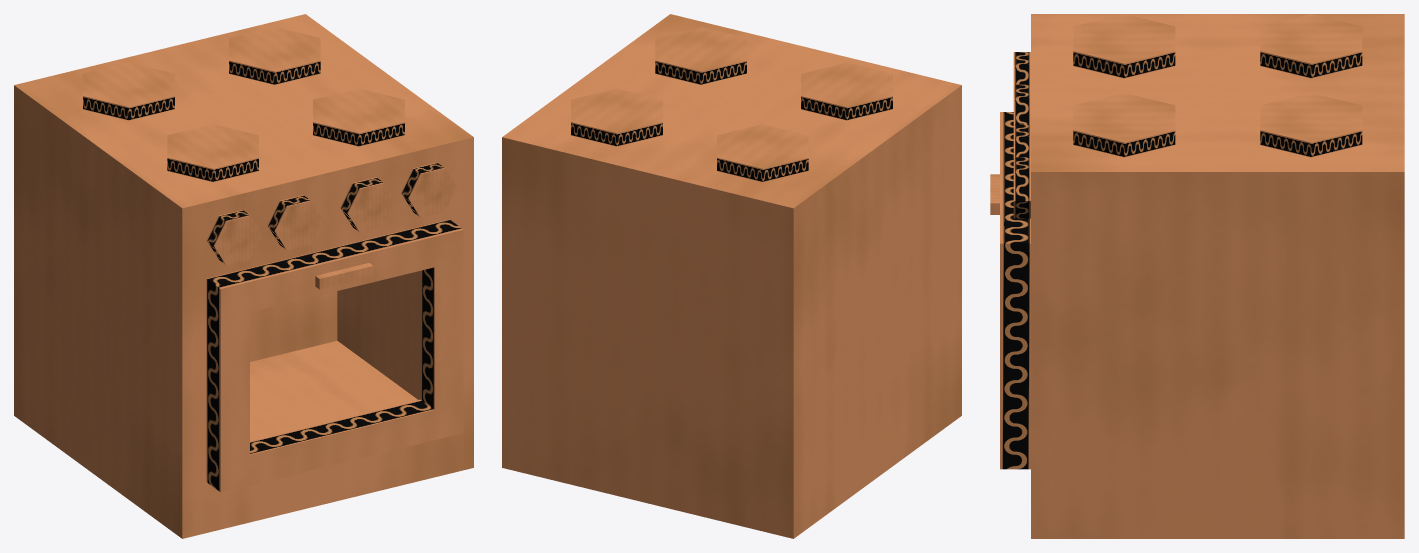
File: M_CardboardKitchen_Oven.fbx
The picture shows the model from 3 angles, left to right: view 1: azimuth 30°, elevation 25°; view 2: azimuth 150°, elevation 25°; view 3: azimuth 270°, elevation 25°; orthographic projection. The views are drawn at different scales.
Parts seen in each view (by area): view 1: M_CardboardKitchen_Oven, OvenDoor, Stovetop, Buttons; view 2: M_CardboardKitchen_Oven, Stovetop; view 3: M_CardboardKitchen_Oven, Stovetop, OvenDoor, Buttons.
Part boxes in pixels (x1,y1,x2,y2): M_CardboardKitchen_Oven: [14, 14, 473, 538]; OvenDoor: [206, 219, 463, 492]; Stovetop: [83, 27, 404, 181]; Buttons: [206, 162, 456, 265]; M_CardboardKitchen_Oven: [502, 14, 961, 538]; Stovetop: [571, 27, 892, 181]; M_CardboardKitchen_Oven: [1031, 14, 1404, 538]; Stovetop: [1073, 14, 1362, 157]; OvenDoor: [990, 112, 1030, 469]; Buttons: [1013, 52, 1030, 218].
Bounding box in the file's own units: 3 × 3.38 × 3.33.
1 material, 1 textured.
